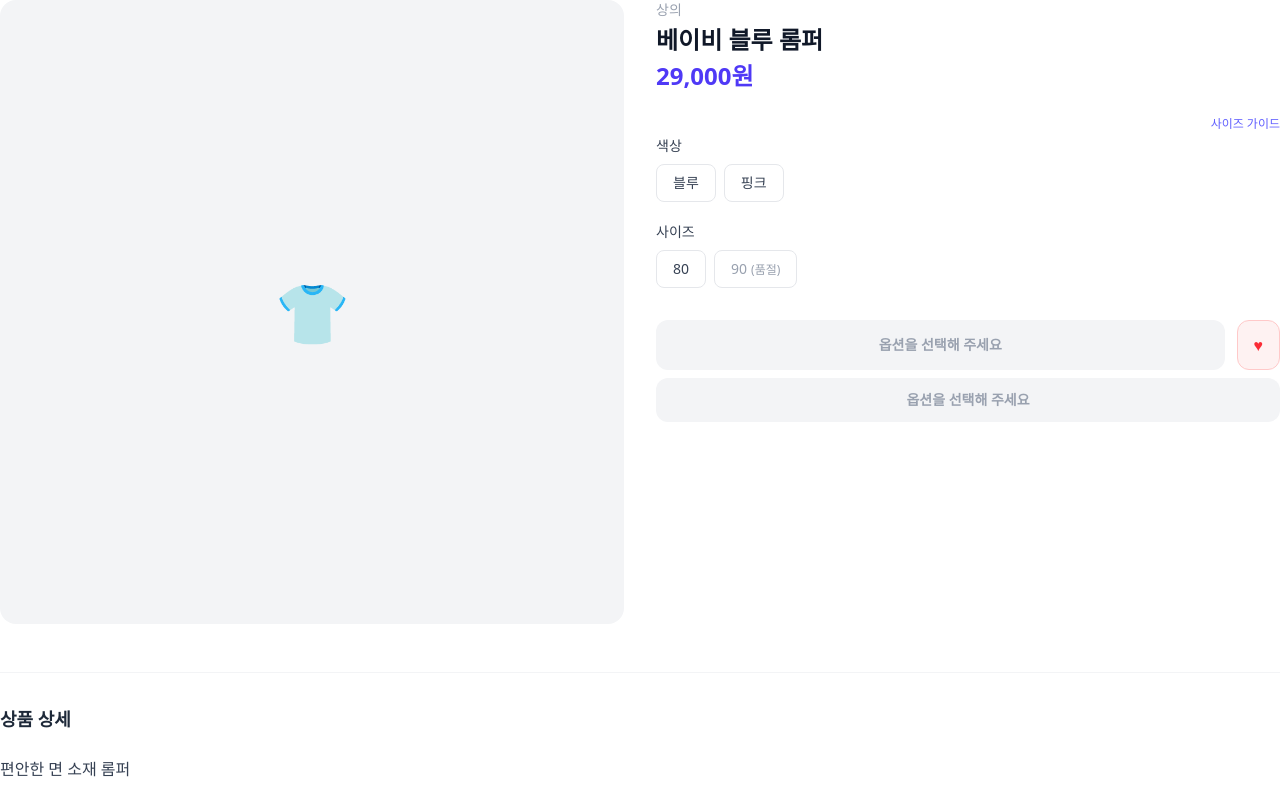
ProductDetailContent › 사이즈 가이드 모달 › 닫기 버튼 클릭 시 모달이 닫힌다
Click the button with aria-label "사이즈 가이드 열기": coordinates (1245, 124) left=1211, top=116, right=1279, bottom=132
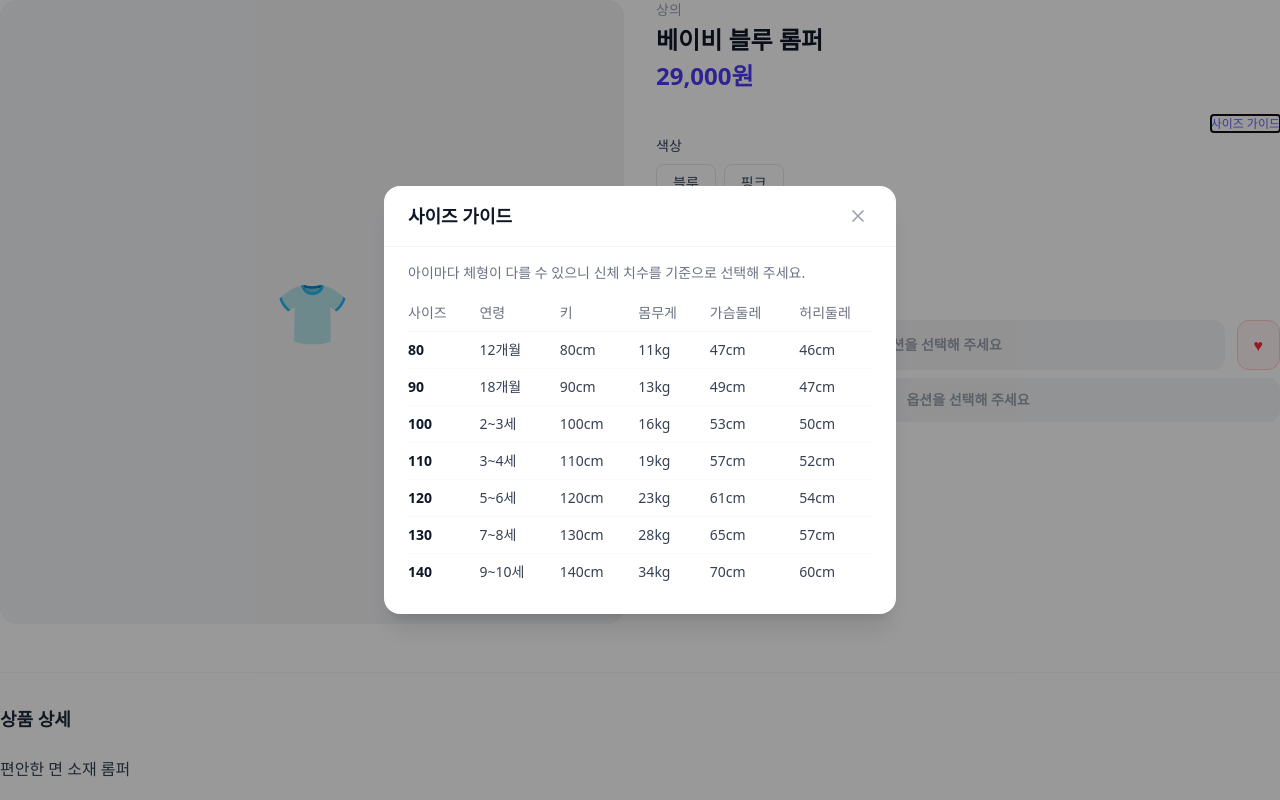
Click the button named "닫기": coordinates (858, 216) left=844, top=202, right=872, bottom=230
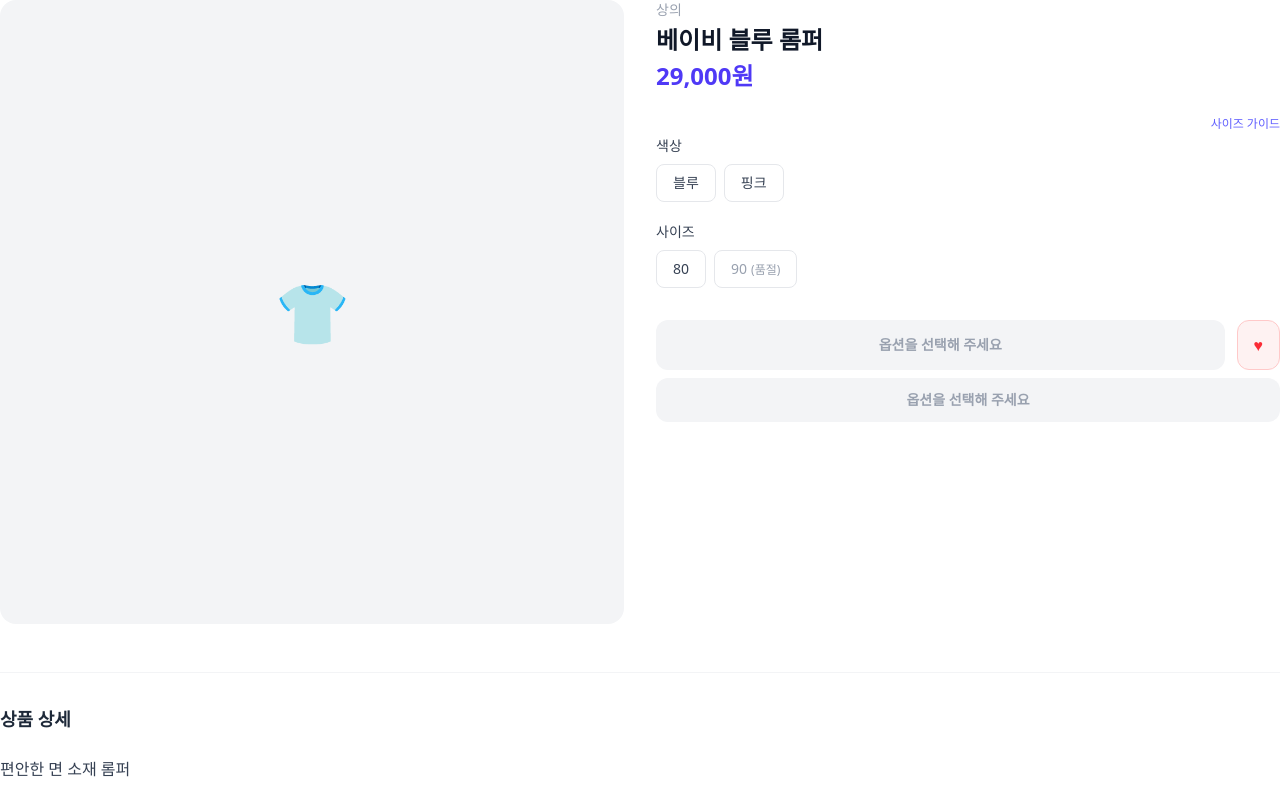
Expected: the dialog is gone
